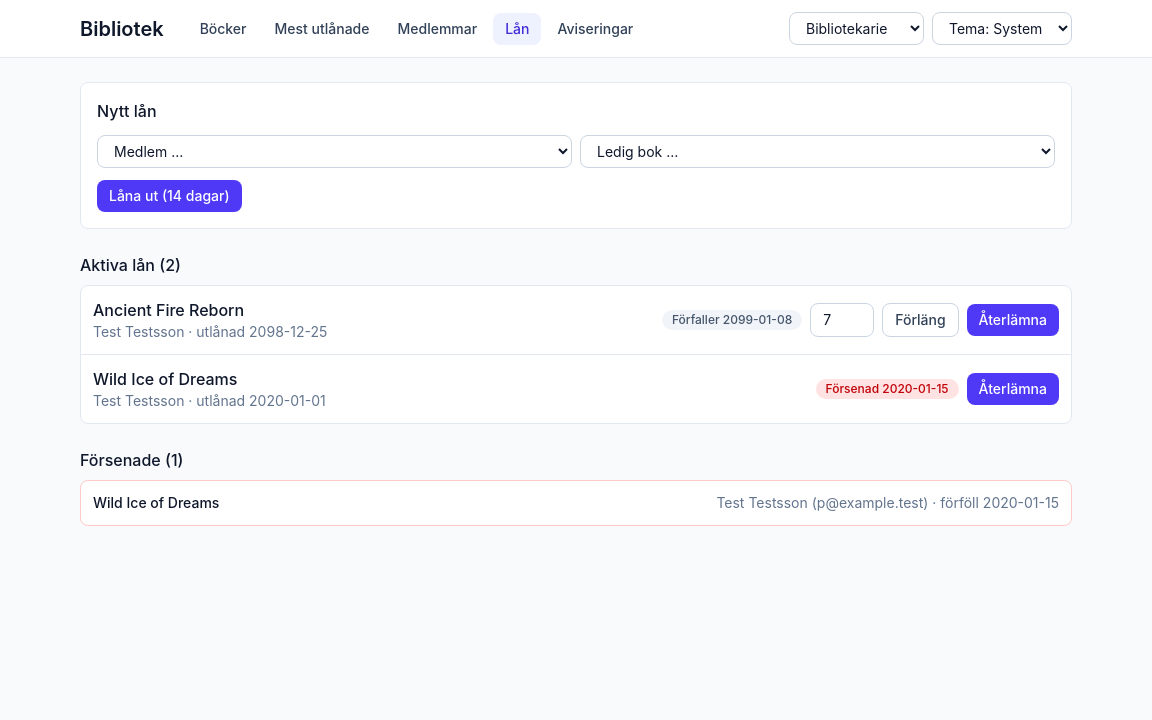
Test case: LoansPage › visar böterna när en bok lämnas tillbaka för sent
The width and height of the screenshot is (1152, 720).
Click the button "Återlämna" in the row of "2020-01-01" at (1013, 389), box [967,373,1059,405]
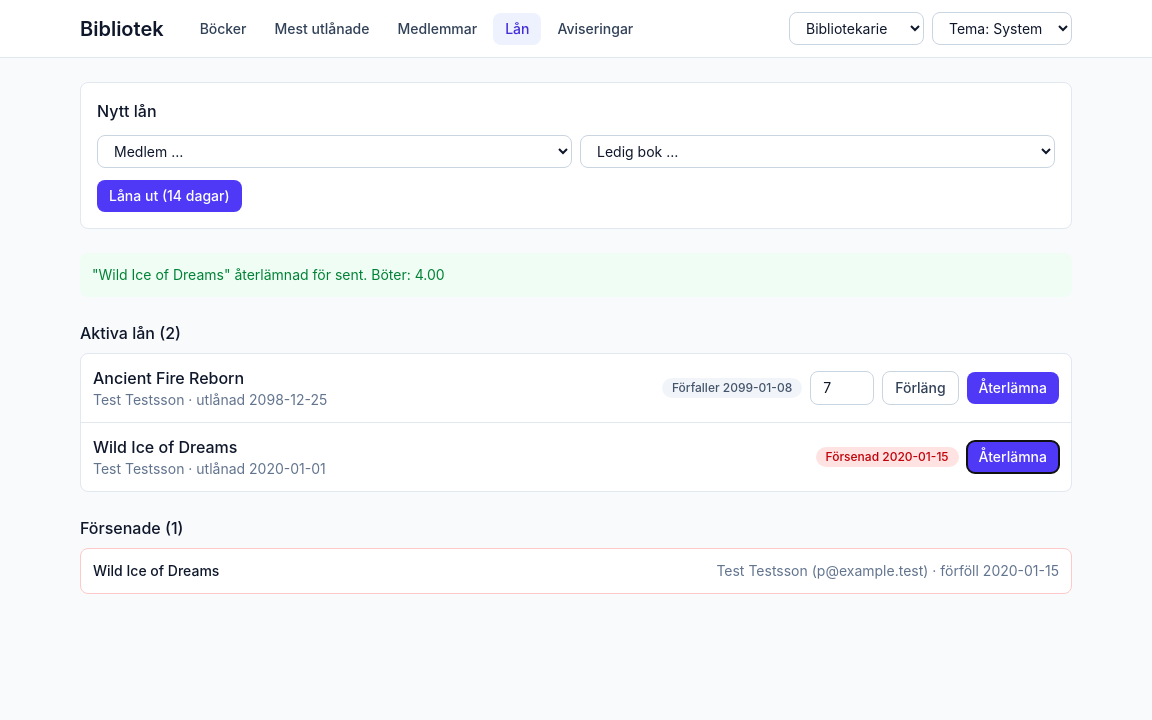
expect the text "\"Wild Ice of Dreams\" återlämnad för sent. Böter: 4.00" is shown: met, box [80,253,1072,297]
